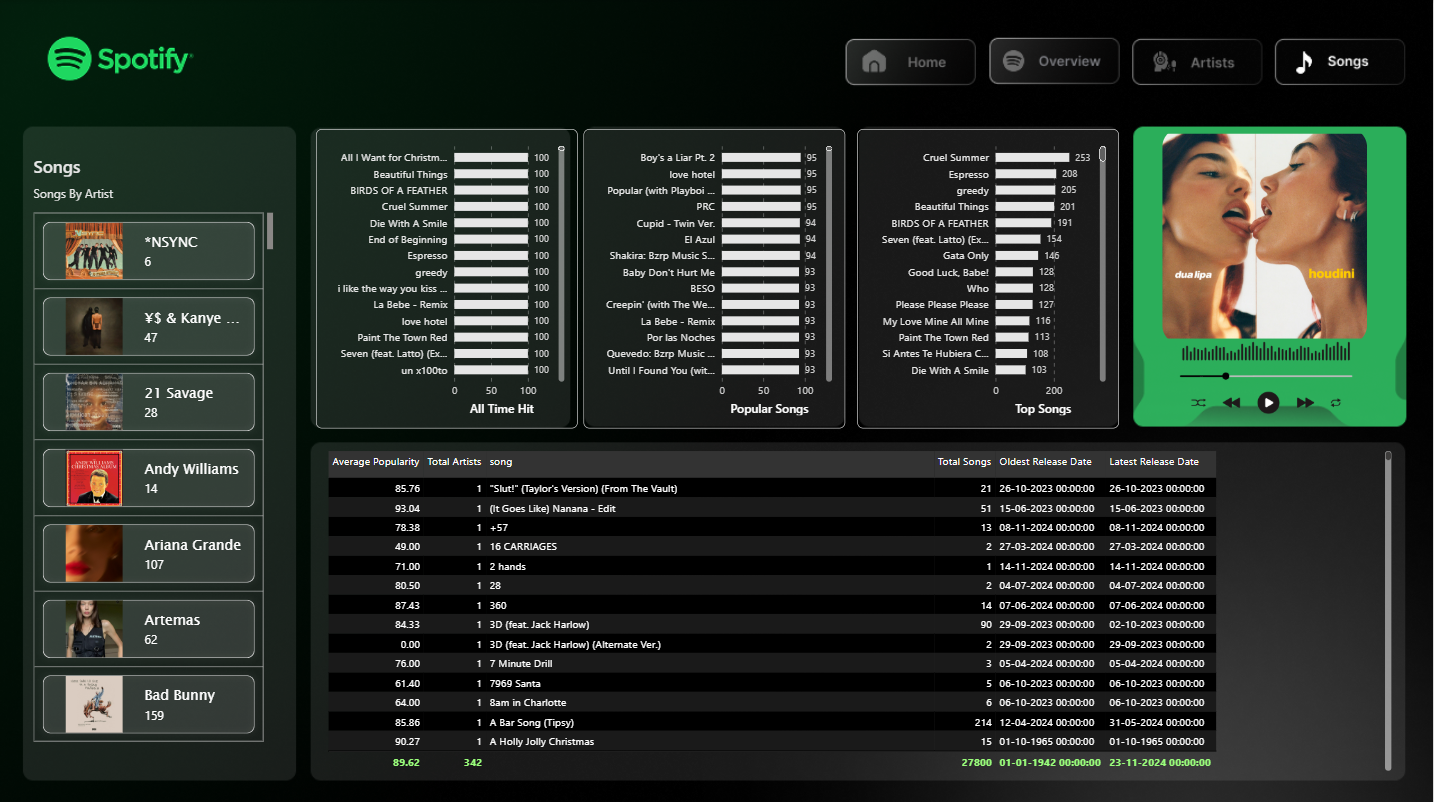

This screenshot's page, from the dashboard's own definition file:
{"tool":"powerbi","page":{"name":"Songs","canvas":[1920,1080],"ordinal":3},"visuals":[{"type":"image","box":[0,0,1920.1,1080.4],"z":0},{"type":"actionButton","box":[1026.1,101.3,168.3,57.9],"z":1000},{"type":"actionButton","box":[1133.8,58.4,168.6,56.8],"z":2000},{"type":"actionButton","box":[1330.8,58.4,168.6,56.8],"z":3000},{"type":"advancedSlicerVisual","title":"Songs","fields":{"Values":["Top-50-World.artist"],"Label":["_Measures.Top 10 Songs"]},"box":[50.7,206.3,320.3,789],"z":4000},{"type":"clusteredBarChart","fields":{"Category":["Top-50-World.song"],"Y":["_Measures.Top 10 Songs"]},"box":[1150.9,173.7,349.3,399.9],"z":5000},{"type":"tableEx","fields":{"Values":["_Measures.Average Popularity","_Measures.Total Artists","Top-50-World.song","_Measures.Total Songs","_Measures.Oldest Release Date","_Measures.Latest Release Date"]},"box":[427.1,589.9,1453.2,457.8],"z":6000},{"type":"image","box":[1558.1,171.9,273.3,289.5],"z":6001},{"type":"image","box":[1545.5,374.6,300.4,264.2],"z":6002},{"type":"clusteredBarChart","fields":{"Category":["Top-50-World.song"],"Y":["_Measures.Minimum Popularity"]},"box":[785.4,173.7,349.3,399.9],"z":6003},{"type":"clusteredBarChart","fields":{"Y":["_Measures.Maximum Popularity"],"Category":["Top-50-World.song"]},"box":[427.1,173.7,349.3,399.9],"z":6004},{"type":"actionButton","box":[1526.2,58.4,168.6,56.8],"z":6005}]}

Visuals, with their boxes in screenshot pixels (x1, y1, x2, y2), scaled from the page's 1920x1080 canvas onto the 1434x802 screenshot:
image: <bbox>0, 0, 1433, 801</bbox>
actionButton: <bbox>766, 75, 892, 118</bbox>
actionButton: <bbox>847, 43, 973, 86</bbox>
actionButton: <bbox>994, 43, 1120, 86</bbox>
"Songs" advancedSlicerVisual: <bbox>38, 153, 277, 739</bbox>
clusteredBarChart - Top-50-World.song x _Measures.Top 10 Songs: <bbox>860, 129, 1120, 426</bbox>
tableEx - _Measures.Average Popularity x _Measures.Total Artists: <bbox>319, 438, 1404, 778</bbox>
image: <bbox>1164, 128, 1368, 343</bbox>
image: <bbox>1154, 278, 1379, 474</bbox>
clusteredBarChart - Top-50-World.song x _Measures.Minimum Popularity: <bbox>587, 129, 847, 426</bbox>
clusteredBarChart - _Measures.Maximum Popularity x Top-50-World.song: <bbox>319, 129, 580, 426</bbox>
actionButton: <bbox>1140, 43, 1266, 86</bbox>
